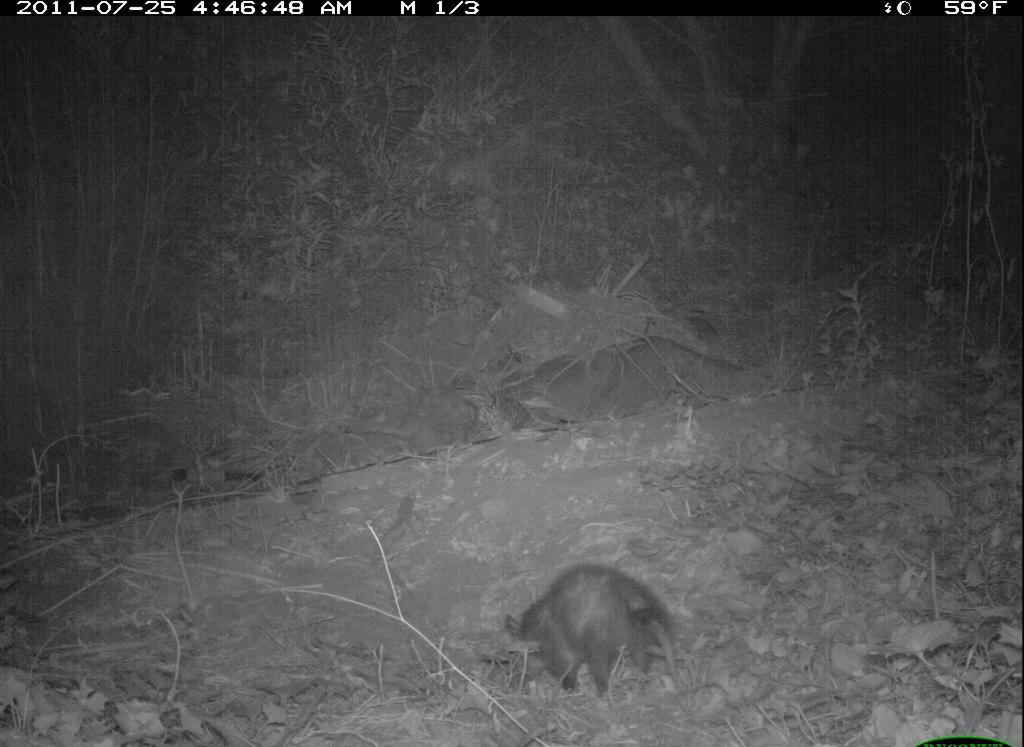opossum: (492, 550, 730, 720)
